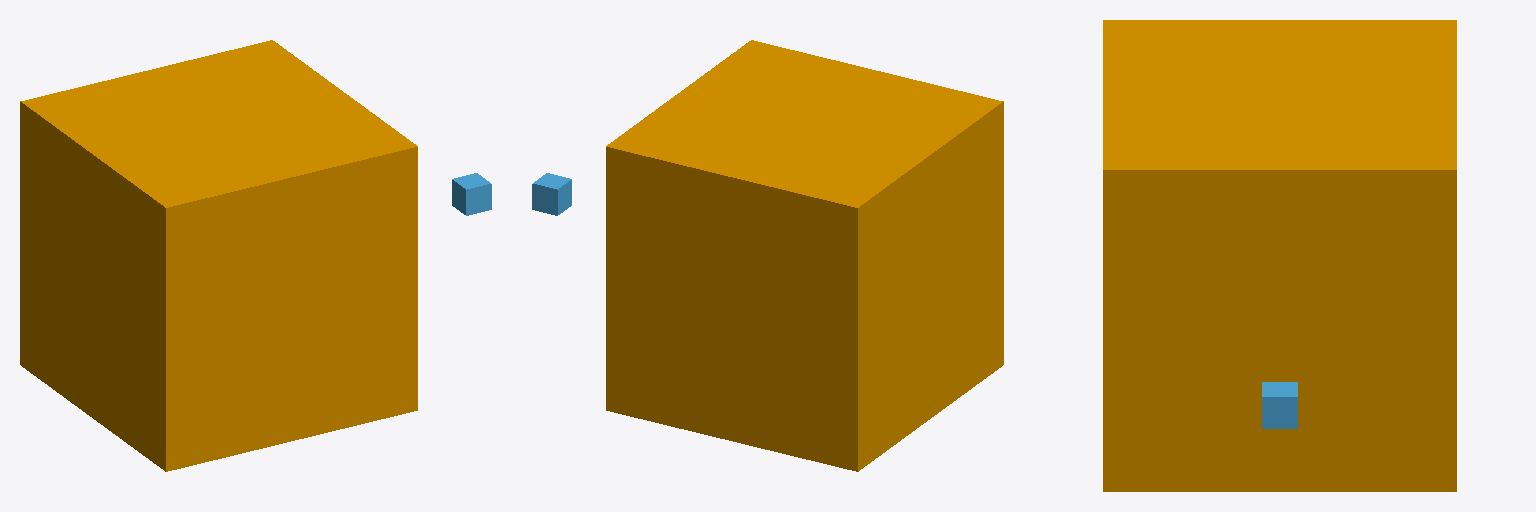
robot.urdf — simple_box:
<robot name="simple_box">
  <!-- two connected boxes for debugging wrench/reference frame application utilities -->
  <link name="box1">
    <inertial>
      <mass value="10.0" />
      <inertia  ixx="1.0" ixy="0.0"  ixz="0.0"  iyy="1.0"  iyz="0.0"  izz="1.0" />
    </inertial>
    <visual>
      <geometry>
        <box size="1 1 1" />
      </geometry>
    </visual>
    <collision>
      <geometry>
        <box size="1 1 1" />
      </geometry>
    </collision>
  </link>
  <gazebo reference="box1">
    <material>Gazebo/Red</material>
    <turnGravityOff>true</turnGravityOff>
  </gazebo>
  <joint name="box1_joint" type="continuous" >
    <axis xyz="1 0 0" />
    <parent link="box1" />
    <child link="box2" />
    <origin xyz="1 0 0" rpy="0 1.571 0" />
  </joint>
  <link name="box2">
    <inertial>
      <mass value="0.01" />
      <inertia  ixx="0.001" ixy="0.0"  ixz="0.0"  iyy="0.001"  iyz="0.0"  izz="0.001" />
    </inertial>
    <visual>
      <geometry>
        <box size="0.1 0.1 0.1" />
      </geometry>
    </visual>
    <collision>
      <geometry>
        <box size="0.1 0.1 0.1" />
      </geometry>
    </collision>
  </link>
  <gazebo reference="box2">
    <material>Gazebo/Blue</material>
    <turnGravityOff>true</turnGravityOff>
  </gazebo>
</robot>

--- Render facts (derived) ---
3 views of the same robot in one strip: view 1: azimuth 30°, elevation 25°; view 2: azimuth 150°, elevation 25°; view 3: azimuth 270°, elevation 25° (orthographic).
Model simple_box with 2 links and 1 joints (1 continuous), rooted at box1, posed every joint at zero.
Links seen in each view (by area): view 1: box1, box2; view 2: box1, box2; view 3: box1, box2.
Link boxes in pixels (x1=…): box1: x1=20, y1=40, x2=417, y2=471; box2: x1=452, y1=173, x2=491, y2=215; box1: x1=606, y1=40, x2=1003, y2=471; box2: x1=532, y1=173, x2=571, y2=215; box1: x1=1103, y1=20, x2=1456, y2=491; box2: x1=1262, y1=382, x2=1297, y2=428.
Bounding box of the posed robot: 1.55 × 1 × 1 m (x, y, z).
Geometry: primitives only (box / cylinder / sphere), no mesh files.